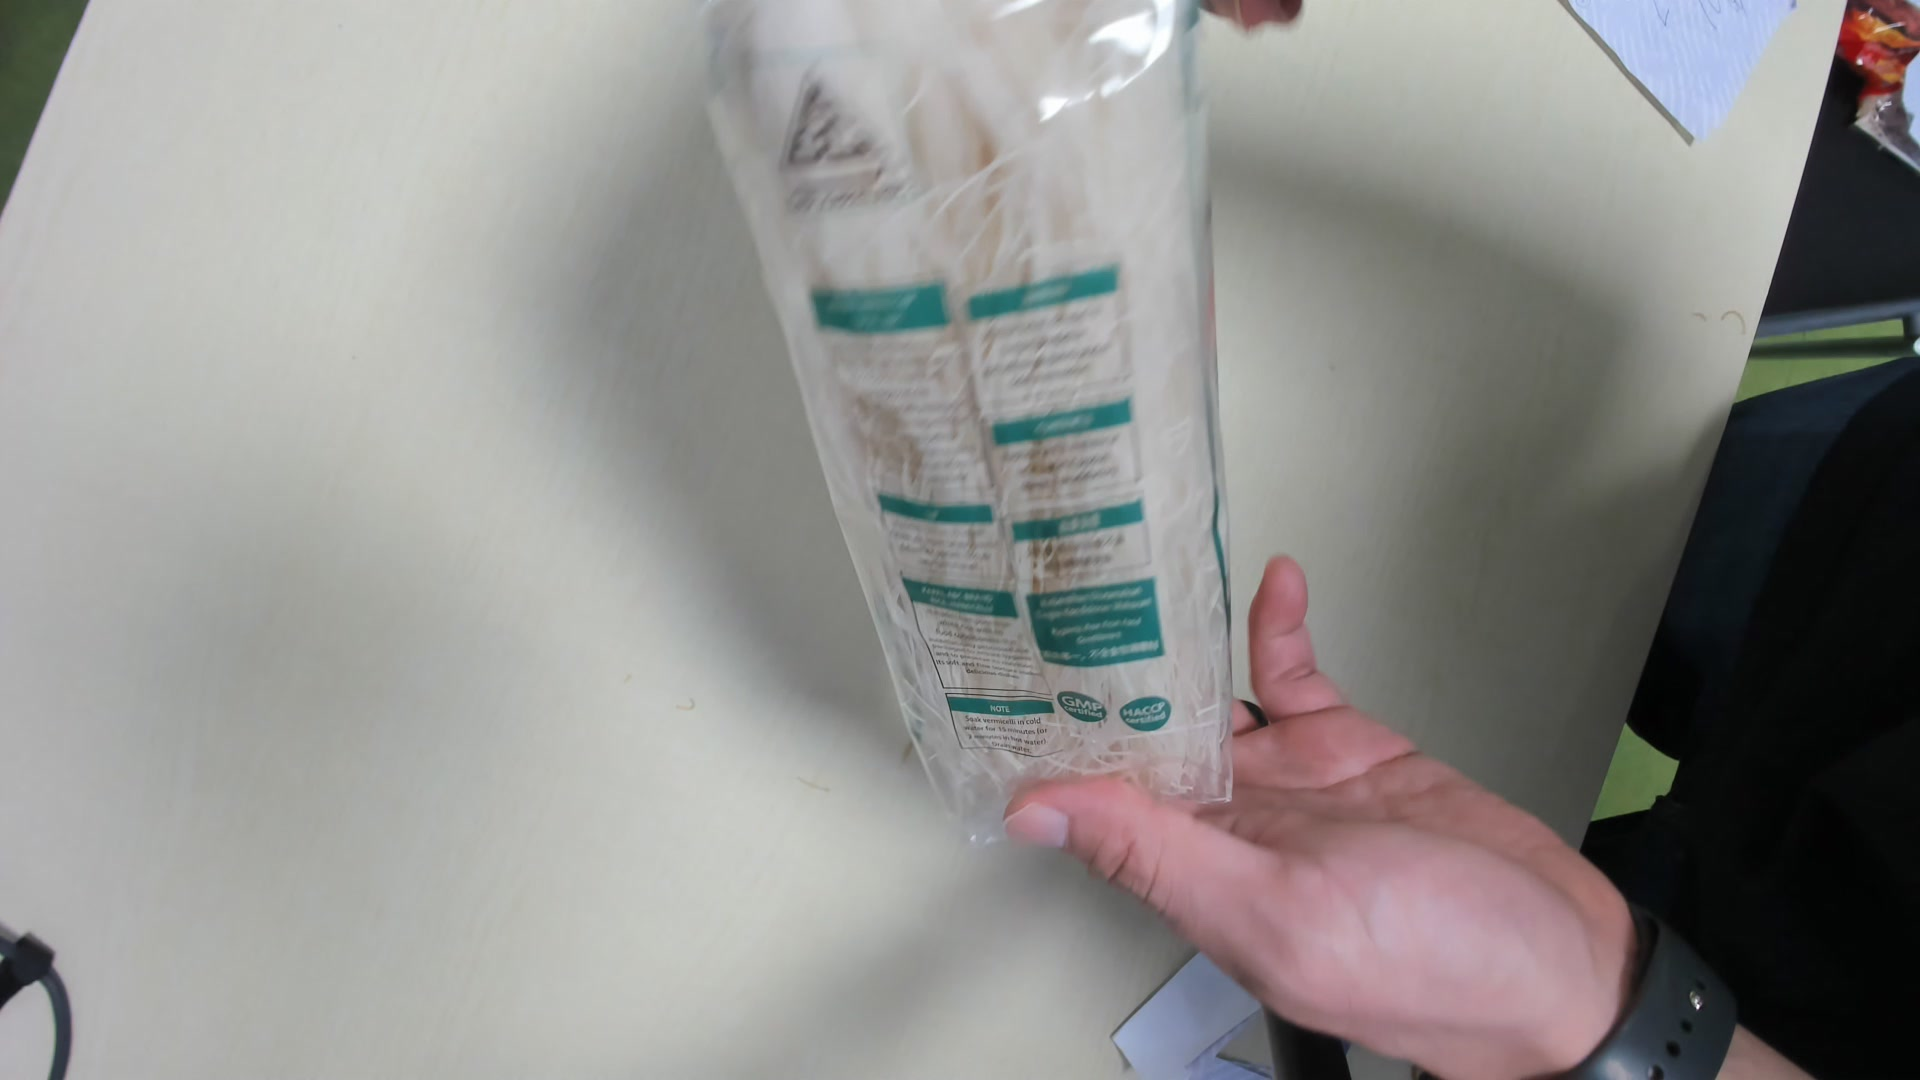BeeHoonVermicelli_200-299g_Halal_NonHealthy: (720, 28, 1242, 833)
